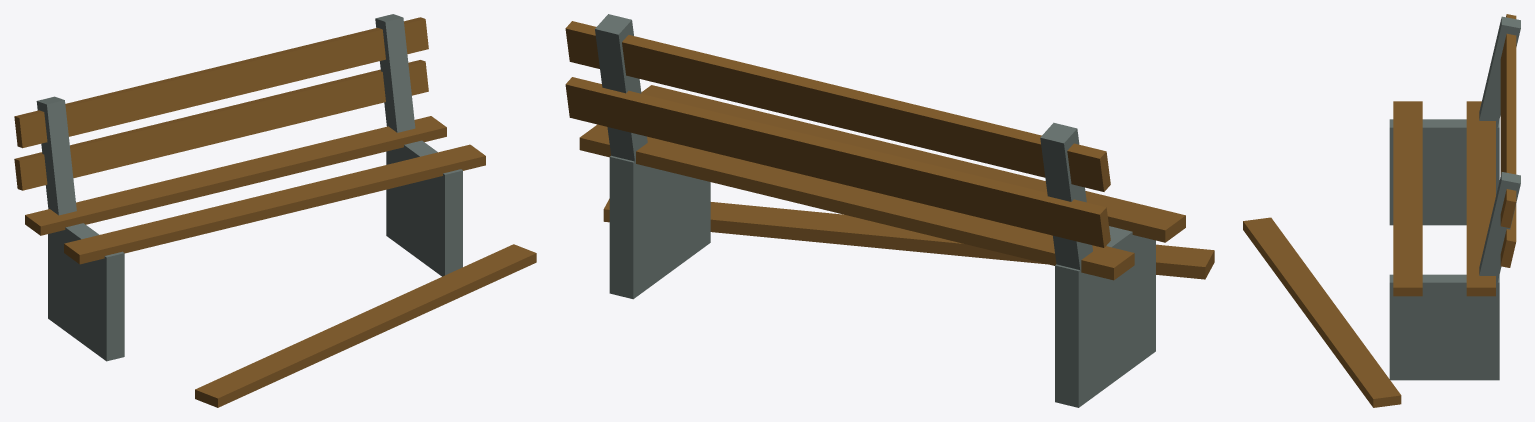
Rendered from SM_Banco_v3_LOD0.fbx.
3 renders of one model, left to right at view 1: azimuth 30°, elevation 25°; view 2: azimuth 150°, elevation 25°; view 3: azimuth 270°, elevation 25°, orthographic. The views are drawn at different scales.
Parts seen in each view (by area): view 1: SM_urbano_v13_LOD0; view 2: SM_urbano_v13_LOD0; view 3: SM_urbano_v13_LOD0.
Part boxes in pixels (x1,y1,x2,y2): SM_urbano_v13_LOD0: (14,14,536,407); SM_urbano_v13_LOD0: (565,14,1214,407); SM_urbano_v13_LOD0: (1243,14,1520,407).
Bounding box in the file's own units: 1.98 × 0.9029 × 1.13.
